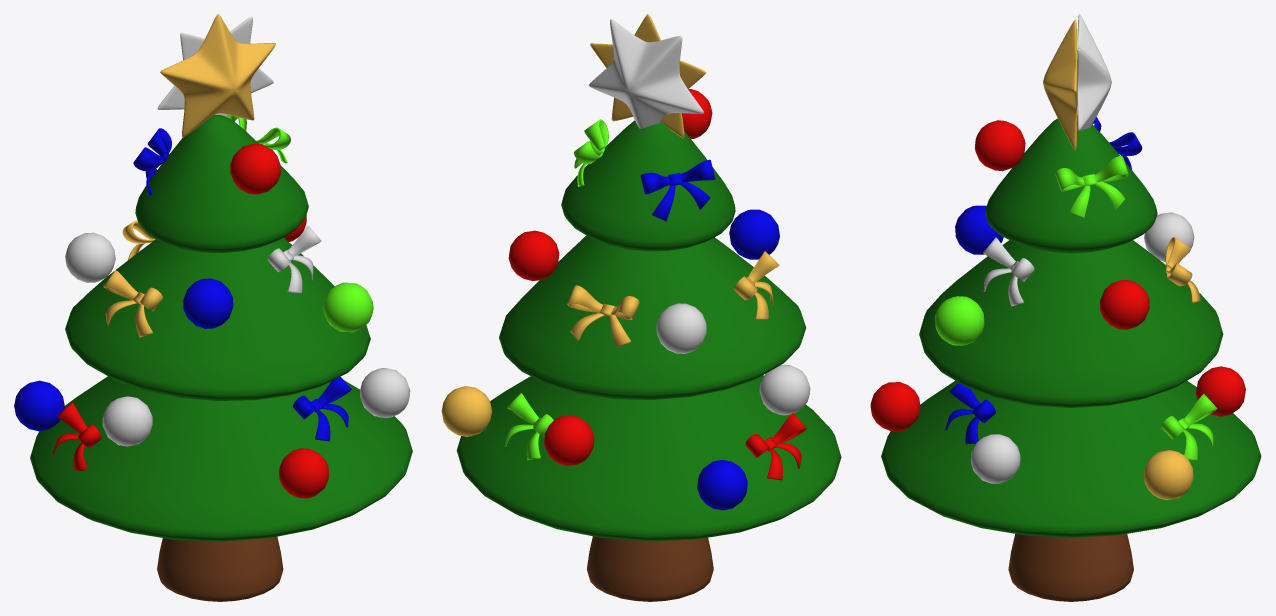
File: TreeSmall.fbx
3 renders of one model, left to right at view 1: azimuth 30°, elevation 25°; view 2: azimuth 150°, elevation 25°; view 3: azimuth 270°, elevation 25°, orthographic.
Parts seen in each view (by area): view 1: Circle, Star, Roundcube.010, Roundcube.006, Roundcube.009, Roundcube.007, Roundcube, Roundcube.002, Roundcube.001, Roundcube.005, Star.001, NurbsPath.042 (+6 smaller); view 2: Circle, Star.001, Roundcube.009, Roundcube.003, Star, Roundcube.005, Roundcube.008, Roundcube.004, Roundcube.002, Roundcube.006, BezierCircle.013, NurbsPath.052 (+5 smaller); view 3: Circle, Star, Star.001, Roundcube.010, Roundcube.007, Roundcube.008, Roundcube.001, Roundcube.003, Roundcube, BezierCircle.015, Roundcube.004, Roundcube.009 (+6 smaller).
Boxes of the visible parts, x1,y1,x2,y2 form: Circle: (30, 115, 412, 601); Star: (160, 14, 275, 137); Roundcube.010: (230, 143, 280, 194); Roundcube.006: (183, 278, 233, 328); Roundcube.009: (65, 232, 115, 282); Roundcube.007: (323, 282, 373, 332); Roundcube: (360, 368, 410, 418); Roundcube.002: (102, 396, 152, 446); Roundcube.001: (279, 448, 328, 498); Roundcube.005: (14, 380, 64, 431); Star.001: (157, 16, 273, 116); NurbsPath.042: (103, 270, 162, 337); Circle: (456, 120, 841, 601); Star.001: (588, 19, 703, 128); Roundcube.009: (656, 303, 706, 353); Roundcube.003: (441, 386, 492, 436); Star: (590, 14, 706, 138); Roundcube.005: (697, 460, 747, 510); Roundcube.008: (508, 230, 559, 280); Roundcube.004: (544, 415, 594, 465); Roundcube.002: (759, 364, 810, 415); Roundcube.006: (729, 209, 779, 259); BezierCircle.013: (567, 285, 639, 347); NurbsPath.052: (640, 159, 715, 221); Circle: (881, 115, 1261, 601); Star: (1043, 19, 1077, 150); Star.001: (1077, 14, 1111, 131); Roundcube.010: (975, 120, 1025, 171); Roundcube.007: (935, 296, 984, 345); Roundcube.008: (1100, 279, 1149, 329); Roundcube.001: (870, 382, 920, 431); Roundcube.003: (1143, 450, 1193, 500); Roundcube: (970, 434, 1020, 483); BezierCircle.015: (1055, 156, 1128, 218); Roundcube.004: (1196, 366, 1245, 416); Roundcube.009: (1144, 212, 1194, 261).
Size of the model in its own units: 212 by 346 by 218.
